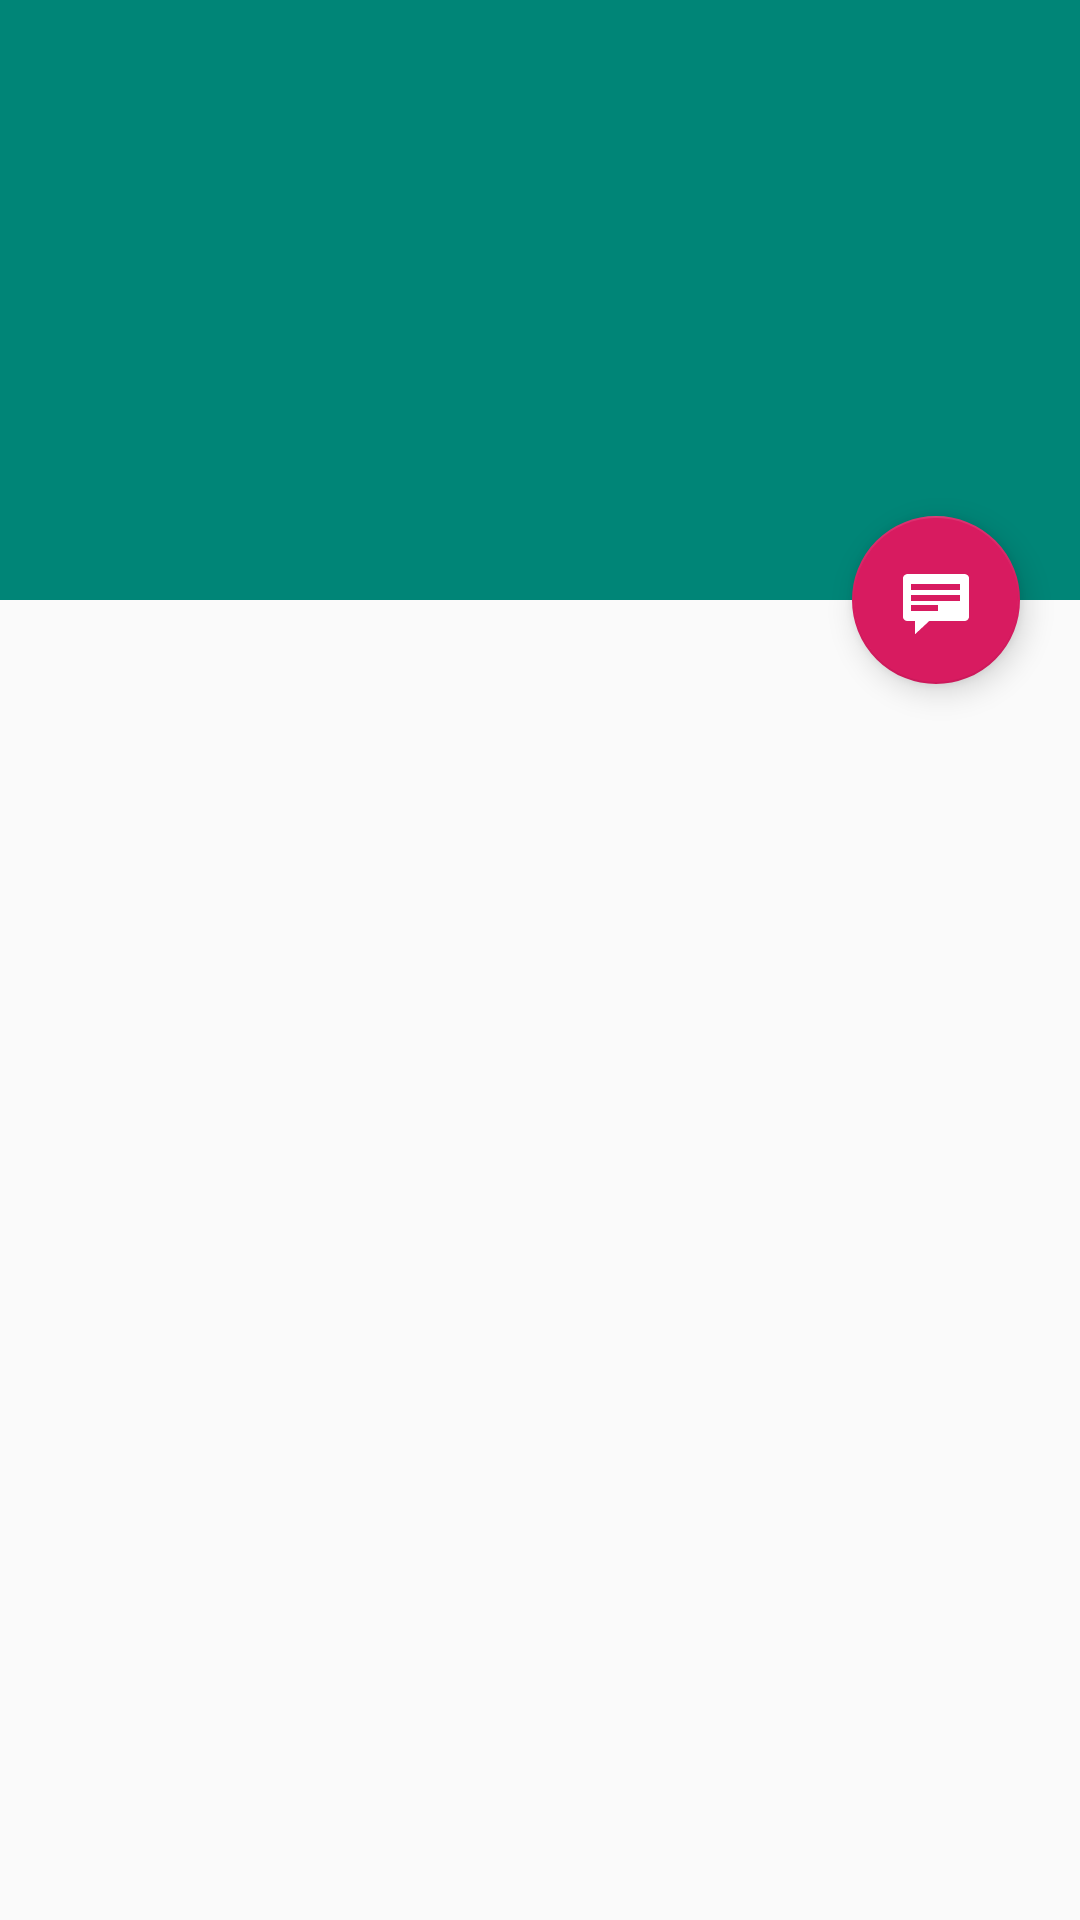

Icons on this 1080px×1920px Android screen, each with the point to tap as point (x, y):
chat: point (936, 600)
